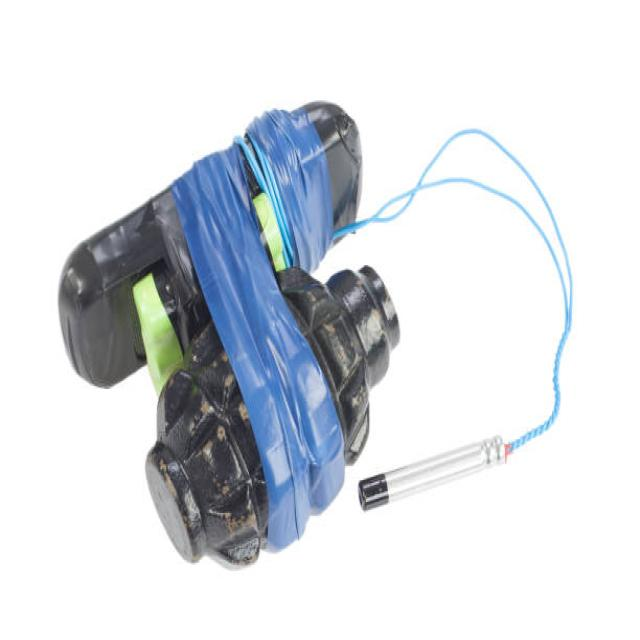grenade: (140, 260, 406, 573)
